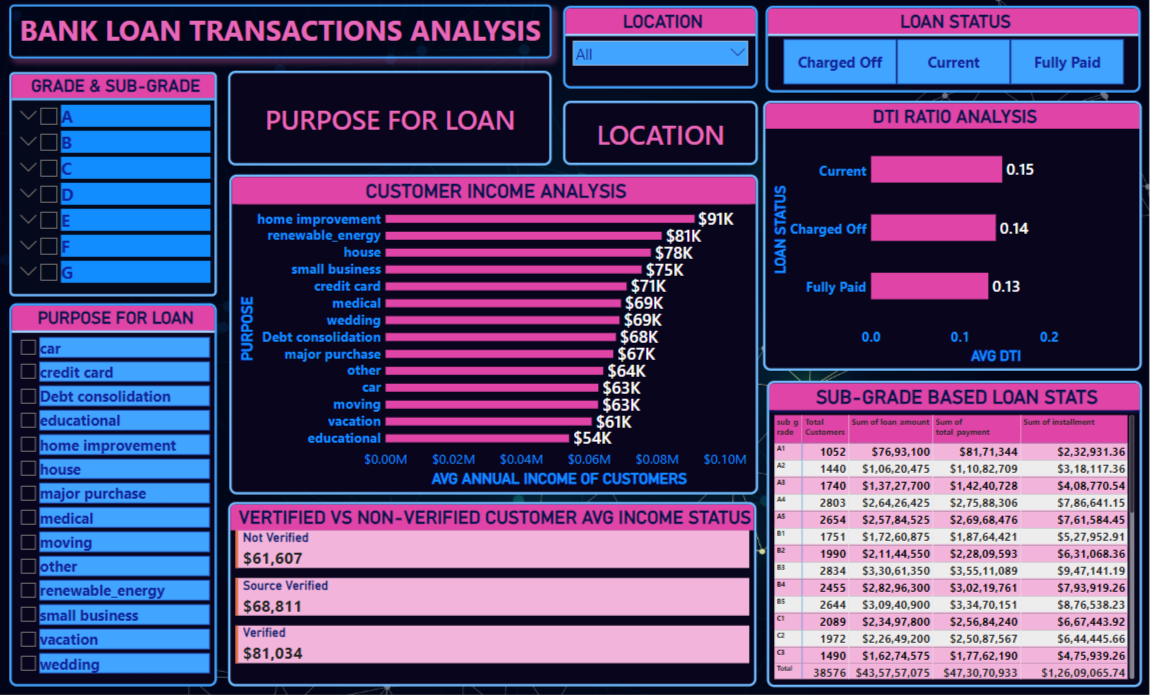

What the dashboard file says about the page in this screenshot:
{"tool":"powerbi","page":{"name":"PAGE 5 ","canvas":[2300,1400],"ordinal":4},"visuals":[{"type":"textbox","box":[20.5,17.9,1084.6,107.7],"z":0},{"type":"slicer","title":"GRADE & SUB-GRADE","fields":{"Values":["financial_loan.grade","financial_loan.sub_grade"]},"box":[20.5,151.3,415.4,448.7],"z":1000},{"type":"slicer","title":"PURPOSE FOR LOAN","fields":{"Values":["financial_loan.purpose"]},"box":[20.5,615.4,415.4,766.7],"z":2000},{"type":"slicer","title":"LOAN STATUS","fields":{"Values":["financial_loan.loan_status"]},"box":[1533.3,19,750,173.8],"z":3000},{"type":"clusteredBarChart","title":"DTI RATIO ANALYSIS","fields":{"Y":["Avg(financial_loan.dti)"],"Category":["financial_loan.loan_status"]},"box":[1527.5,210,757.5,540],"z":4000},{"type":"card","fields":{"Values":["financial_loan.COUNTRY SELECT"]},"box":[1126.3,210.5,389.5,128.9],"z":5000},{"type":"slicer","title":"LOCATION","fields":{"Values":["financial_loan.address_state"]},"box":[1126.3,21.1,389.5,165.8],"z":7000},{"type":"card","title":"PURPOSE","fields":{"Values":["financial_loan.Purpose Measure"]},"box":[457.9,150,647.4,189.5],"z":8000},{"type":"multiRowCard","title":"VERTIFIED VS NON-VERIFIED CUSTOMER AVG INCOME STATUS","fields":{"Values":["financial_loan.verification_status","Avg(financial_loan.annual_income)"]},"box":[458.4,1013,1057.1,368.8],"z":9000},{"type":"barChart","title":"CUSTOMER INCOME ANALYSIS","fields":{"Category":["financial_loan.purpose"],"Y":["Avg(financial_loan.annual_income)"]},"box":[460,357.5,1057.5,640],"z":10000},{"type":"pivotTable","title":"SUB-GRADE BASED LOAN STATS","fields":{"Rows":["financial_loan.sub_grade"],"Values":["financial_loan.Total Customers","Sum(financial_loan.loan_amount)","Sum(financial_loan.total_payment)","Sum(financial_loan.installment)"]},"box":[1535,770,750,612.5],"z":11000}]}

Visuals, with their boxes in screenshot pixels (x1, y1, x2, y2), scaled from the page's 2300x1400 canvas onto the 1150x695 screenshot:
textbox: l=10, t=9, r=553, b=62
"GRADE & SUB-GRADE" slicer: l=10, t=75, r=218, b=298
"PURPOSE FOR LOAN" slicer: l=10, t=306, r=218, b=686
"LOAN STATUS" slicer: l=767, t=9, r=1142, b=96
"DTI RATIO ANALYSIS" clusteredBarChart: l=764, t=104, r=1142, b=372
card - financial_loan.COUNTRY SELECT: l=563, t=104, r=758, b=168
"LOCATION" slicer: l=563, t=10, r=758, b=93
"PURPOSE" card: l=229, t=74, r=553, b=169
"VERTIFIED VS NON-VERIFIED CUSTOMER AVG INCOME STATUS" multiRowCard: l=229, t=503, r=758, b=686
"CUSTOMER INCOME ANALYSIS" barChart: l=230, t=177, r=759, b=495
"SUB-GRADE BASED LOAN STATS" pivotTable: l=768, t=382, r=1142, b=686
